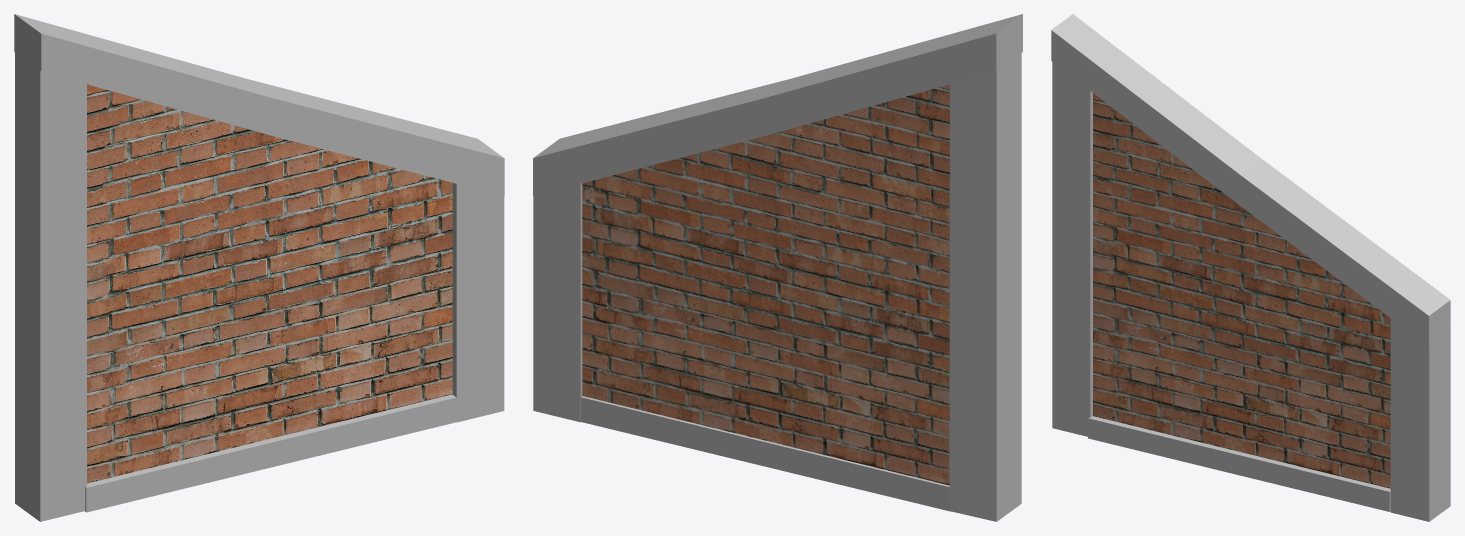
Rendered from HouseHalfBrickWall_LowPitchAngle_UPPER.fbx.
The picture shows the model from 3 angles, left to right: view 1: azimuth 30°, elevation 25°; view 2: azimuth 150°, elevation 25°; view 3: azimuth 330°, elevation 25°; orthographic projection. The views are drawn at different scales.
Visible parts, largest first — view 1: polySurface1.001; view 2: polySurface1.001; view 3: polySurface1.001.
Part boxes in pixels (<box>): polySurface1.001: <box>14,14,504,521</box>; polySurface1.001: <box>533,14,1022,521</box>; polySurface1.001: <box>1051,14,1450,521</box>.
Size of the model in its own units: 250 by 253 by 25.
